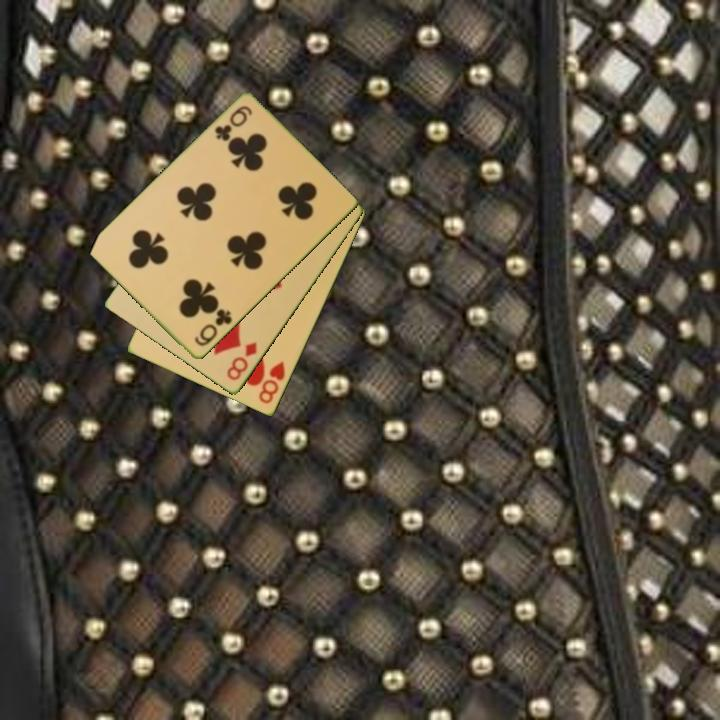6c: (191, 305, 235, 349), (211, 102, 255, 145)
8d: (223, 339, 260, 384)
8h: (255, 358, 288, 407)
